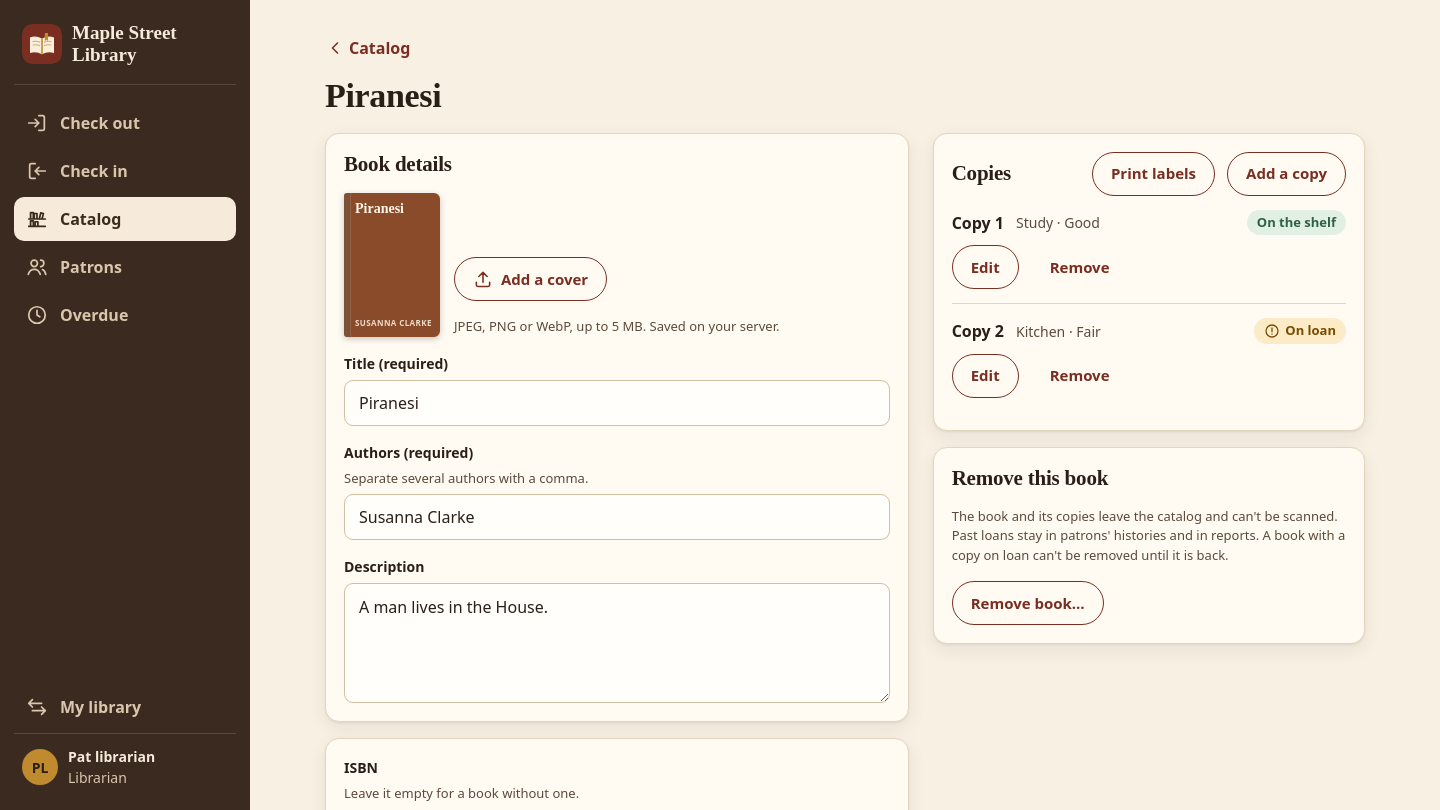
Test case: CAT-5 Manage inventory: a book › Remove a book: after asking again it is removed and the catalog opens
Click the button "Remove book…": click(1028, 604) top-left (952, 582), bottom-right (1104, 626)
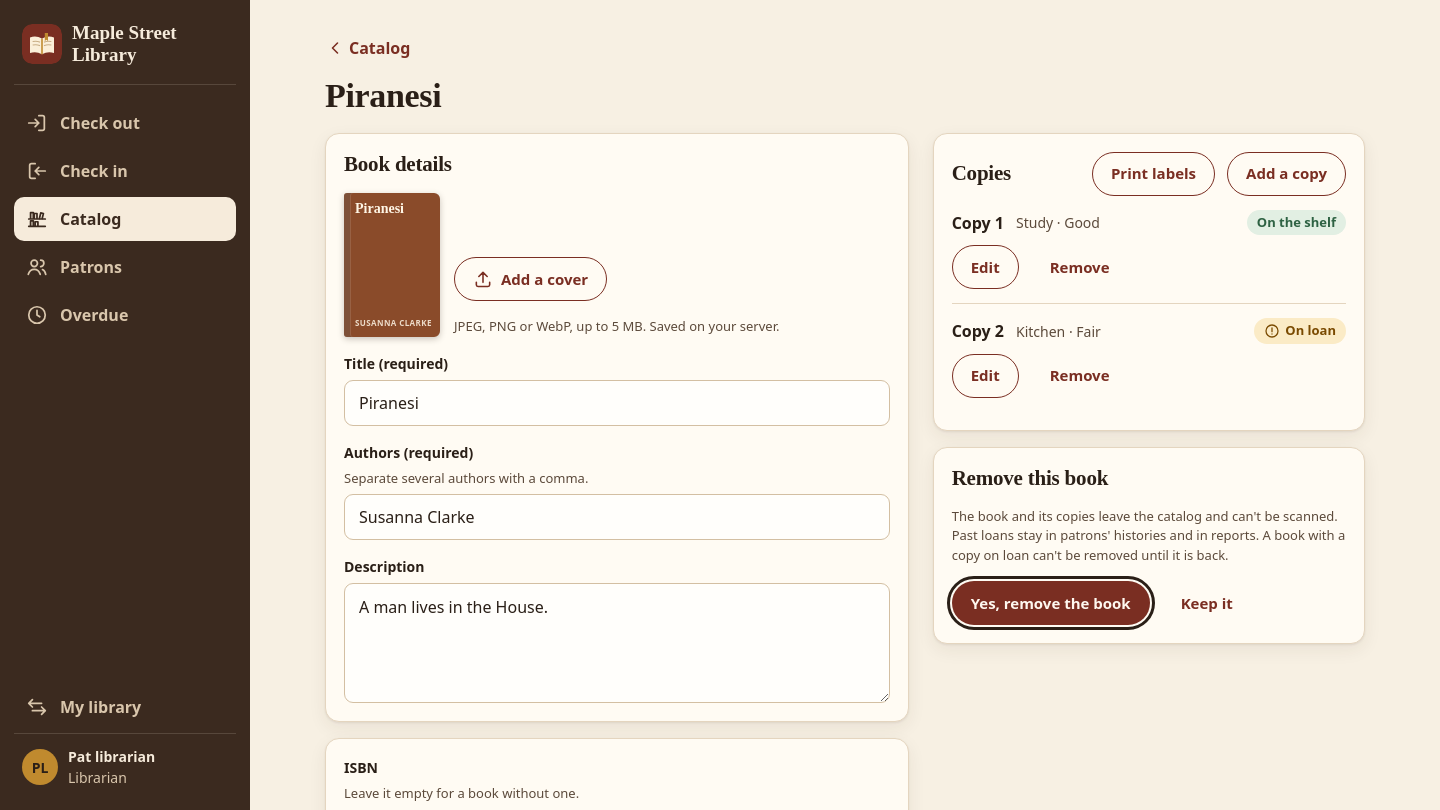
Click the button "Yes, remove the book": click(1051, 604) top-left (952, 582), bottom-right (1150, 626)
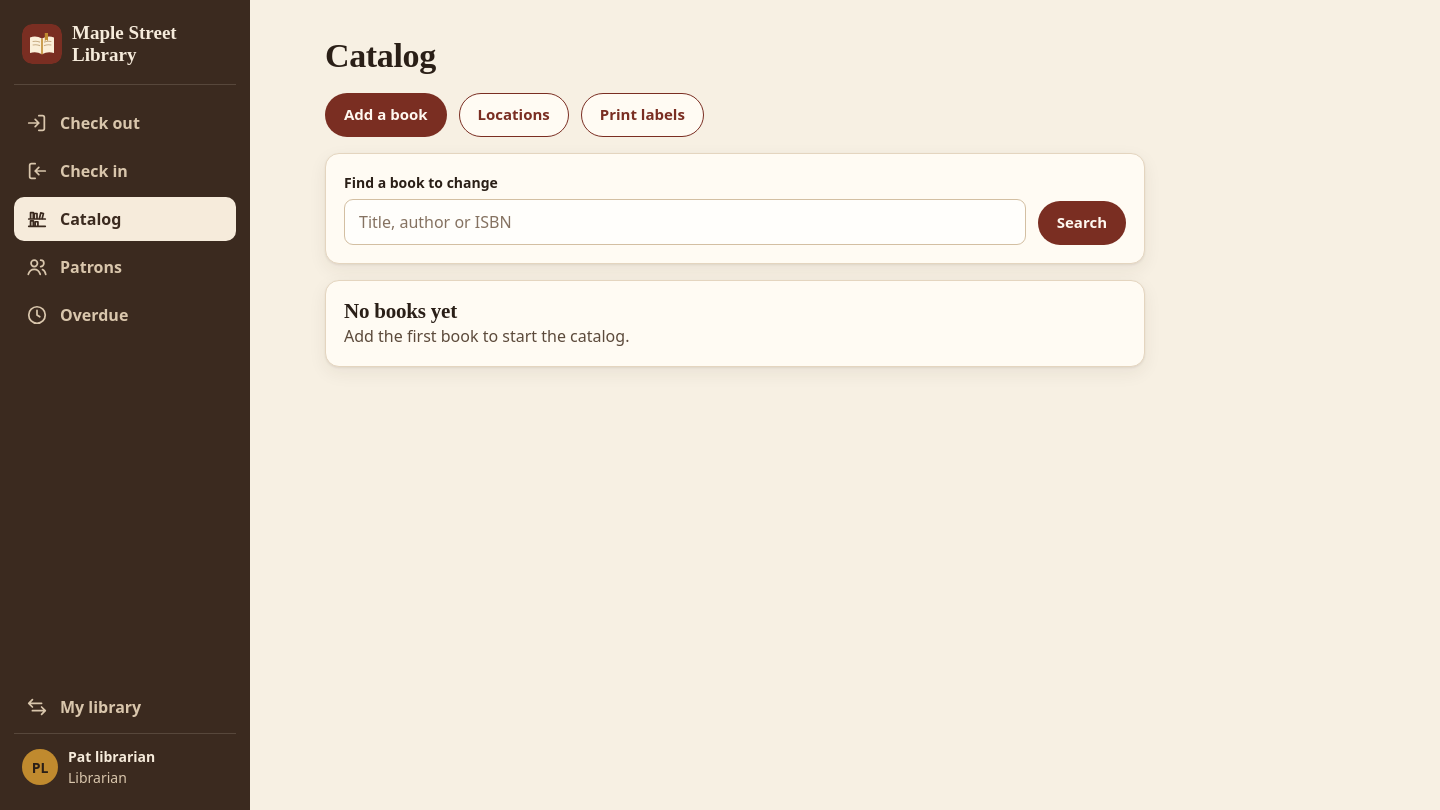
Result: the heading "Catalog" is shown at top-left (325, 37), bottom-right (436, 74)
